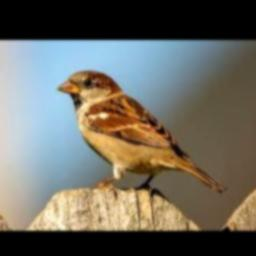Sparrow: (56, 71, 228, 193)
